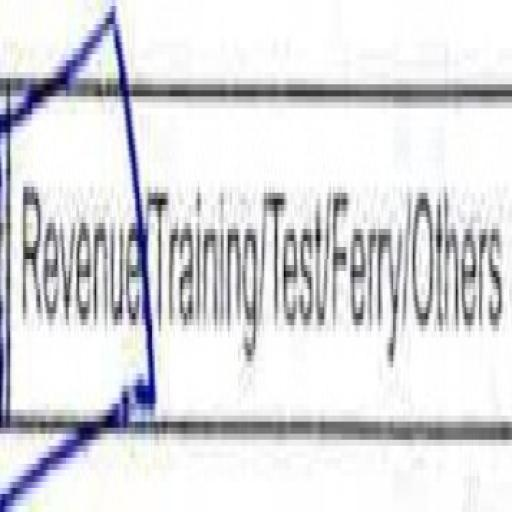check: (0, 0, 147, 511)
